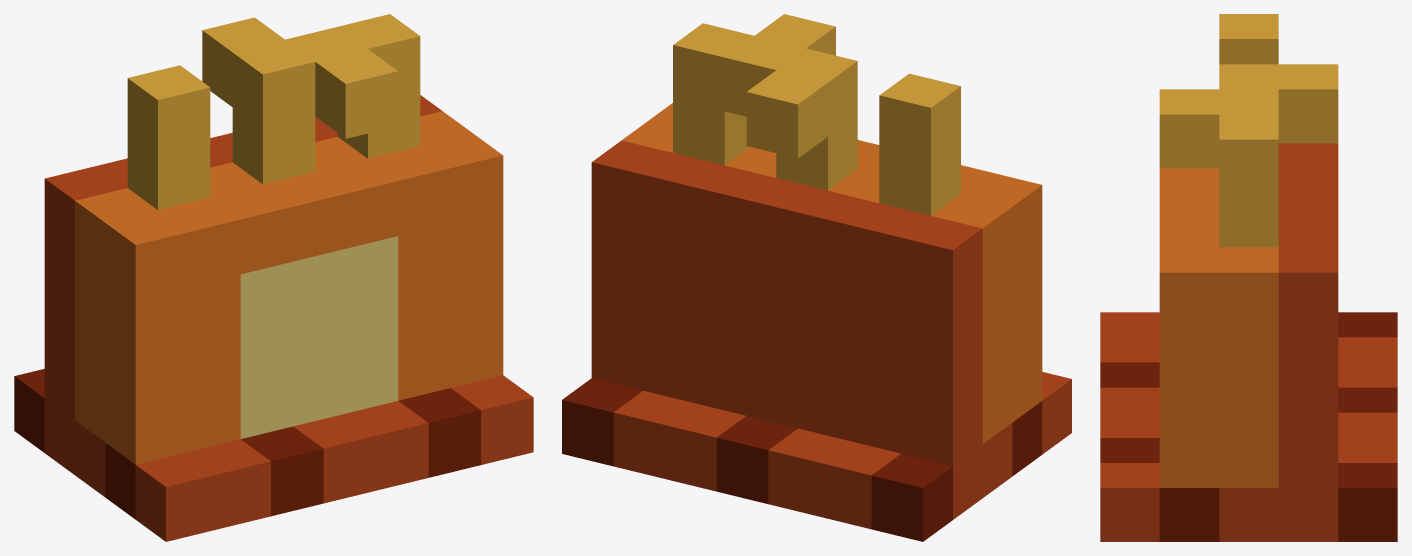
Rendered from flame_02.glb.
The picture shows the model from 3 angles, left to right: view 1: azimuth 30°, elevation 25°; view 2: azimuth 150°, elevation 25°; view 3: azimuth 270°, elevation 25°; orthographic projection.
Visible parts, largest first — view 1: flame_02; view 2: flame_02; view 3: flame_02.
Part boxes in pixels (bbox=[...]): flame_02: bbox=[14, 14, 533, 541]; flame_02: bbox=[562, 14, 1071, 541]; flame_02: bbox=[1100, 14, 1397, 541].
Size of the model in its own units: 0.875 by 0.875 by 0.625.
